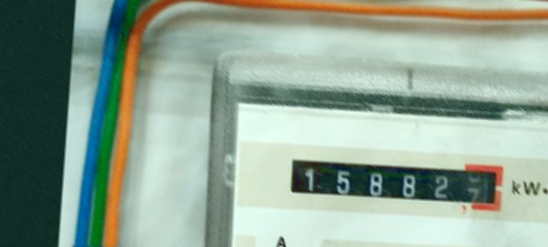1: (299, 161, 315, 190)
2: (430, 170, 448, 199)
5: (331, 165, 351, 193)
7: (462, 182, 479, 200)
8: (364, 167, 382, 196), (398, 168, 415, 197)
screen: (273, 140, 512, 218)
